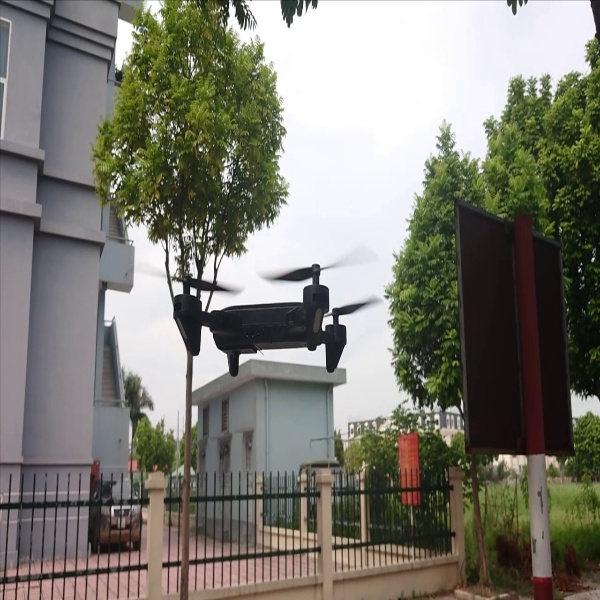drone: (148, 249, 384, 385)
